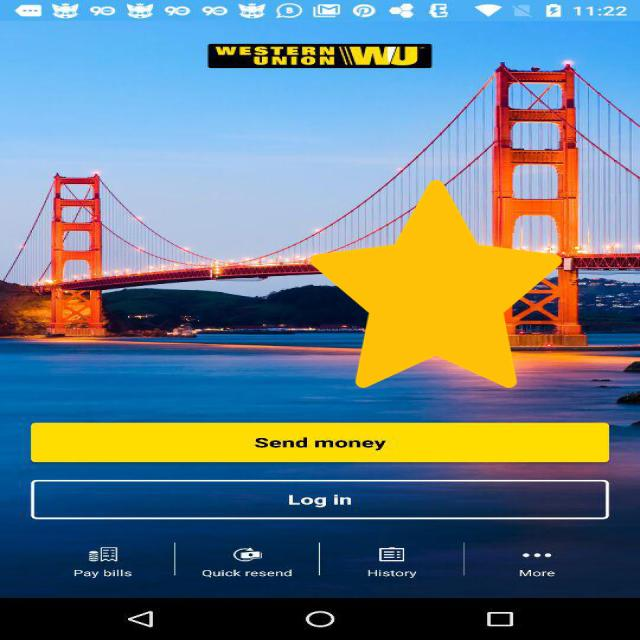forced continuity: (310, 180, 562, 388)
